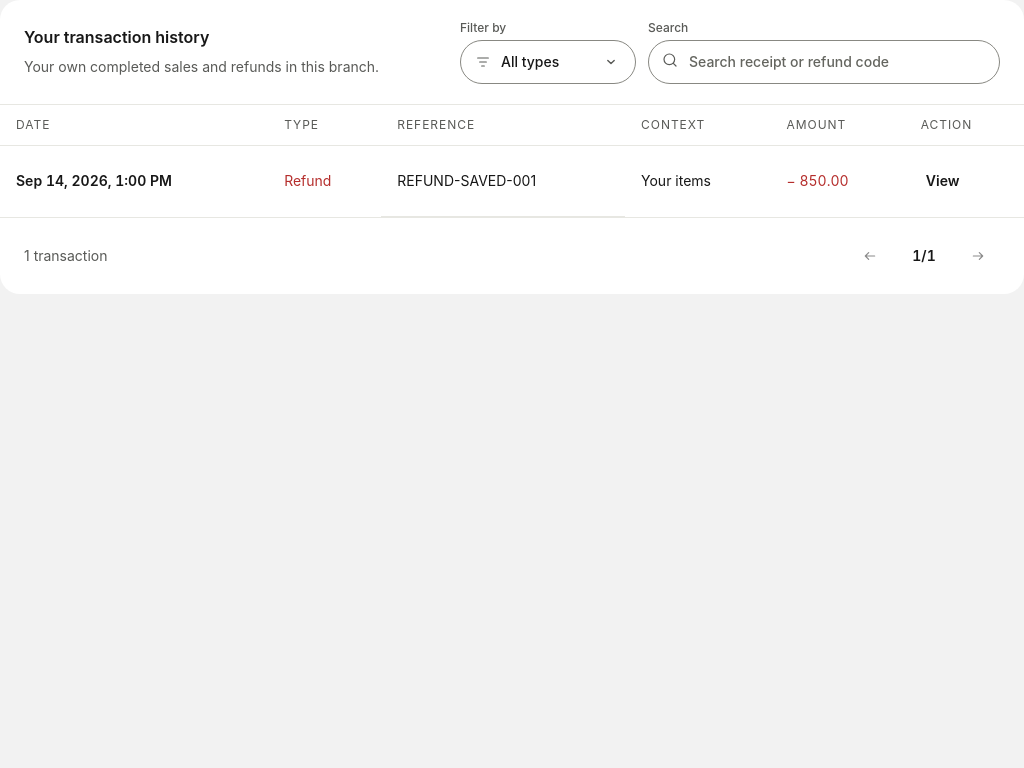
Test case: Reports inline refund details › uses only the reduced own-item projection for merchants
The image size is (1024, 768).
Click the button "View": [943, 181] box [921,162,965,200]
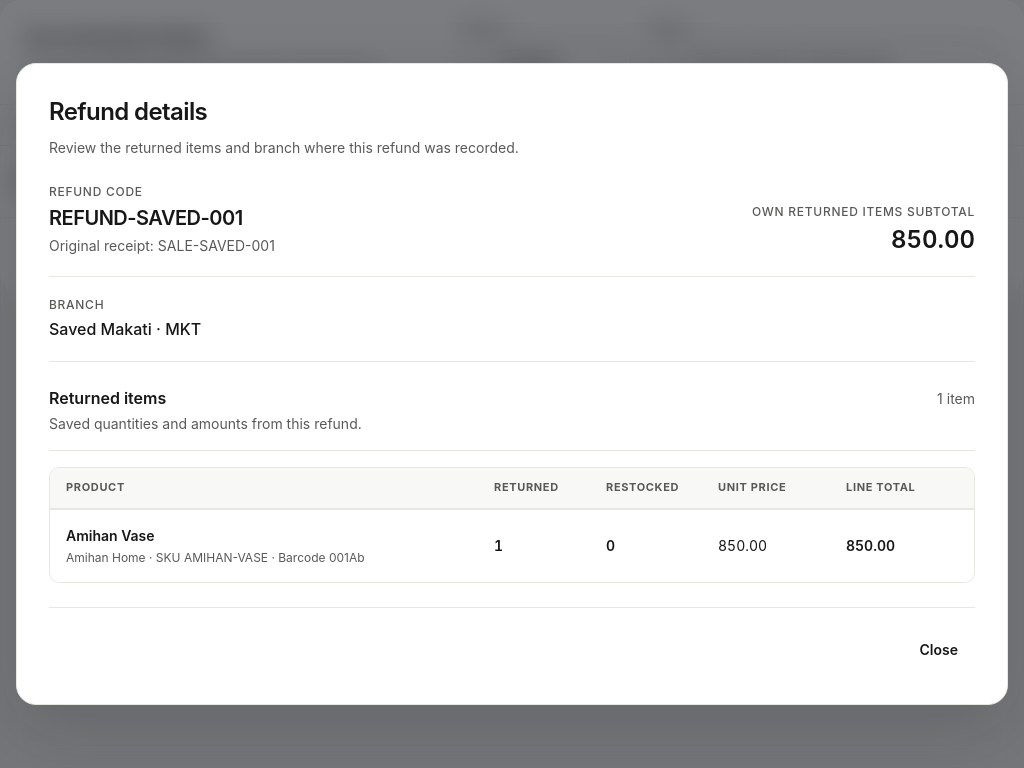
Expected: the text "Own returned items subtotal" is shown, [752,204,975,220]
